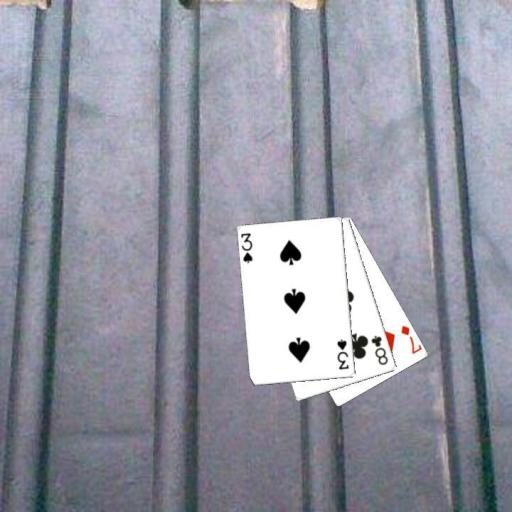3S: (334, 337, 351, 372), (238, 230, 255, 265)
7D: (399, 322, 423, 356)
8C: (368, 332, 390, 367)
